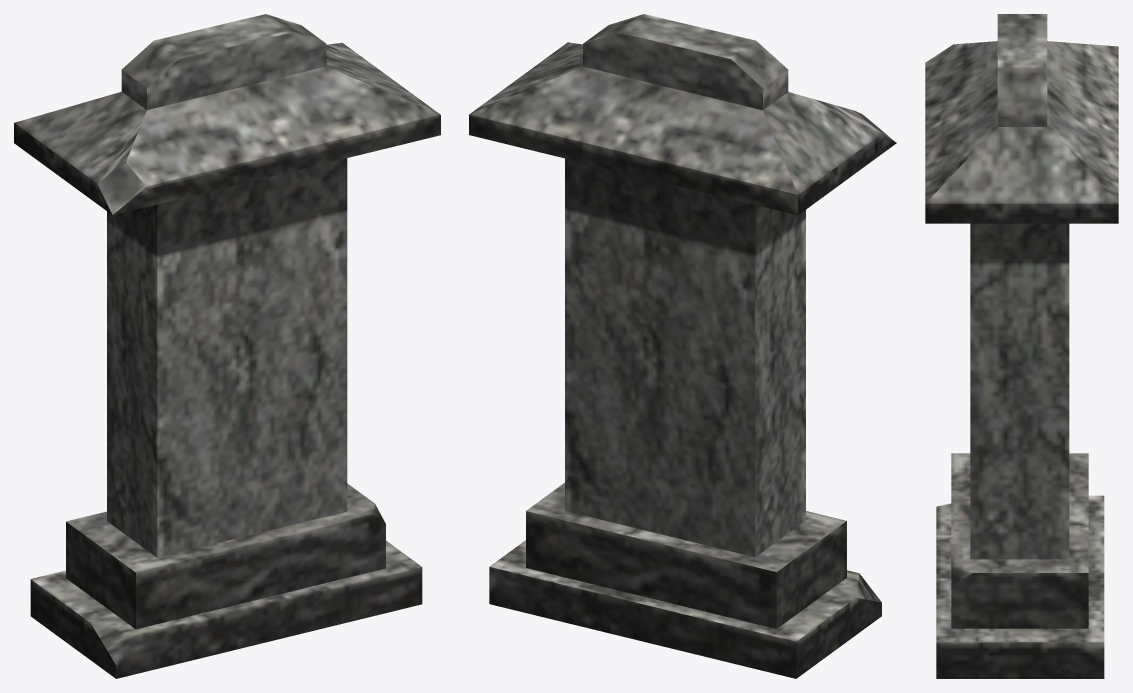
3 renders of one model, left to right at view 1: azimuth 30°, elevation 25°; view 2: azimuth 150°, elevation 25°; view 3: azimuth 270°, elevation 25°, orthographic. The views are drawn at different scales.
Parts seen in each view (by area): view 1: ob-12-09; view 2: ob-12-09; view 3: ob-12-09.
Boxes of the visible parts, <box> form: ob-12-09: <box>14,14,440,678</box>; ob-12-09: <box>469,14,896,678</box>; ob-12-09: <box>925,14,1118,678</box>.
Size of the model in its own units: 1.58 by 2.64 by 0.82.
